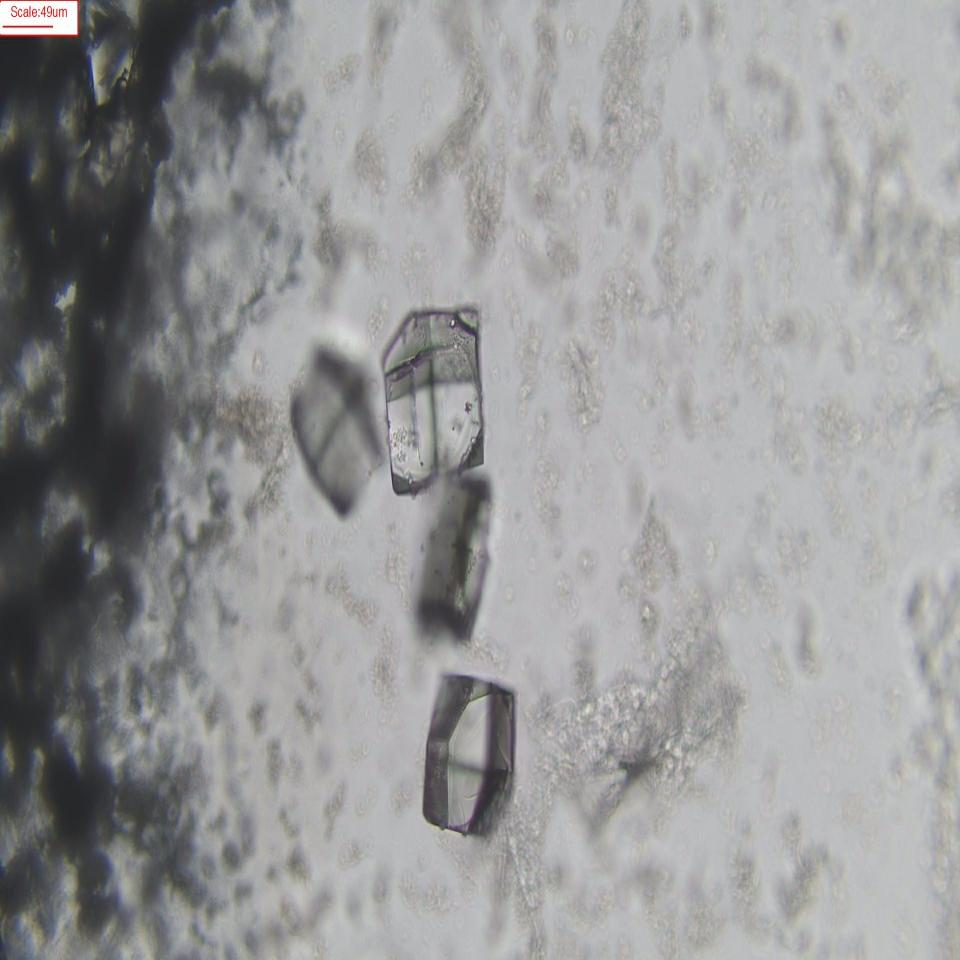crystal: (382, 302, 482, 482), (424, 670, 517, 837), (285, 349, 382, 506)
